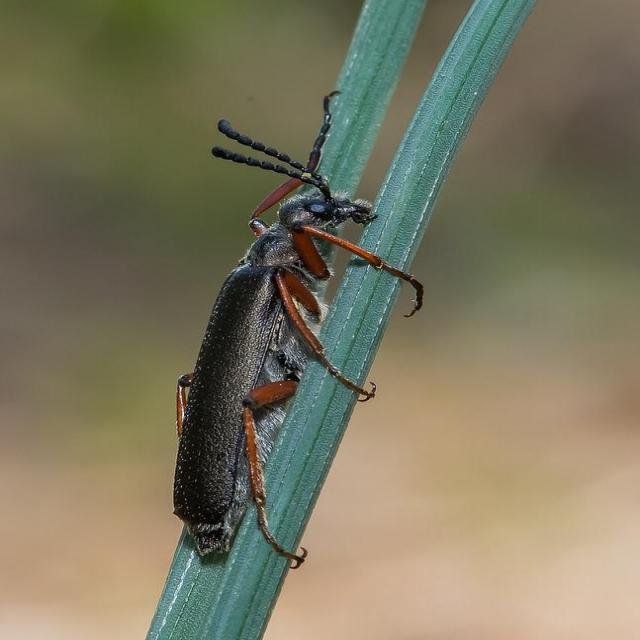BlisterBeetle-Adult-: (157, 71, 438, 609)
